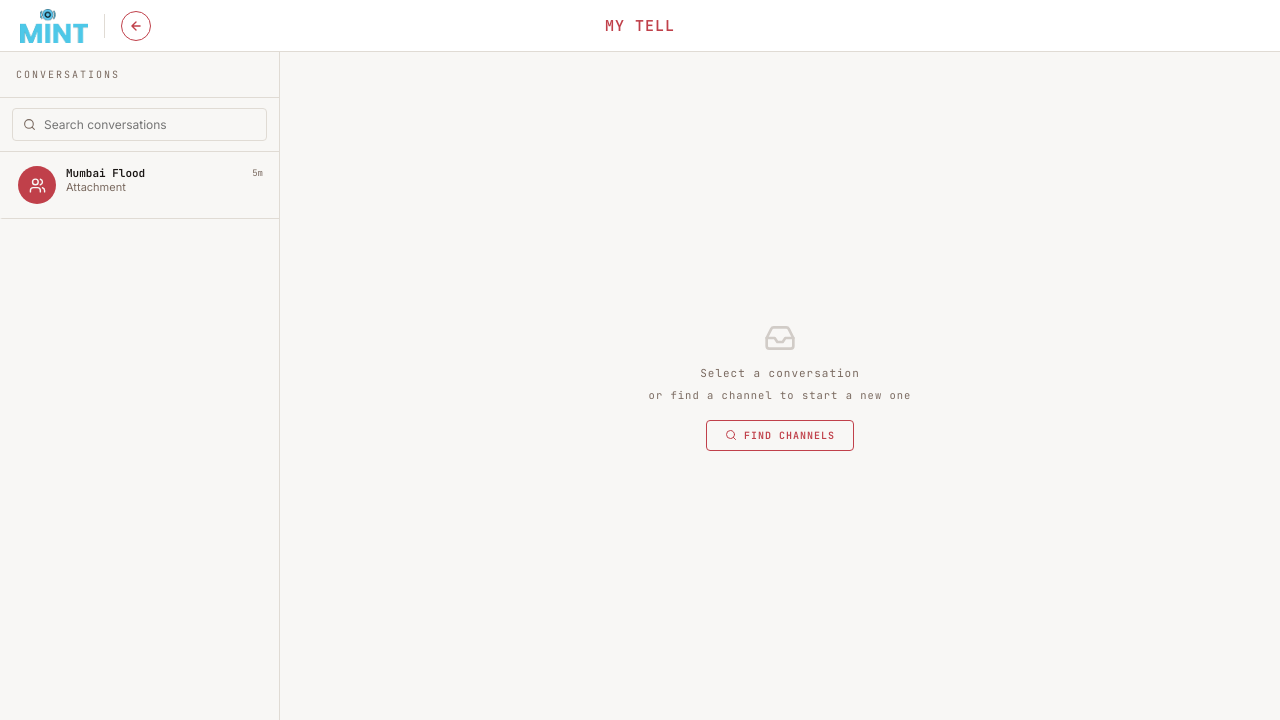
Test case: MessagesPage › names a group, marks it with the group icon and labels who said what
The width and height of the screenshot is (1280, 720).
Click the text "Mumbai Flood".
click(106, 173)  # box [66,166,145,180]
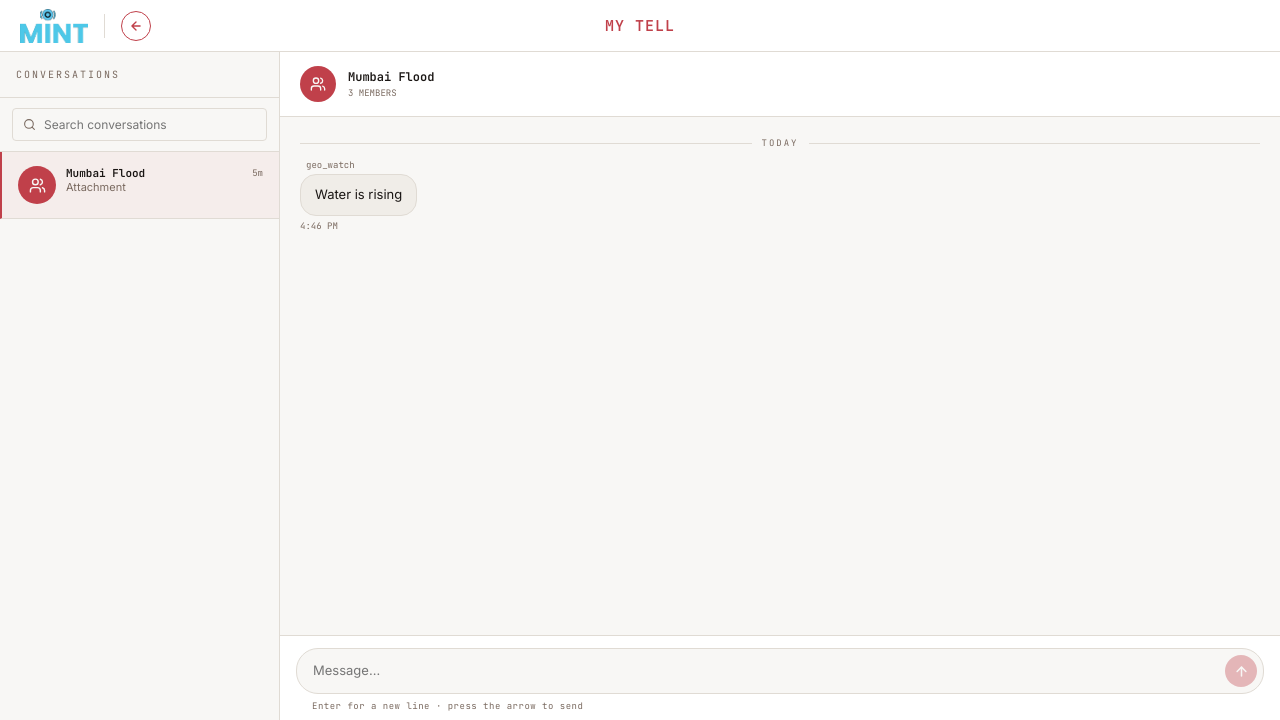
Now the text "Water is rising" is shown, box [300,174,417,216]
Now the text "geo_watch" is shown, box [306,159,355,171]
Now the text "3 MEMBERS" is shown, box [348,87,397,99]
